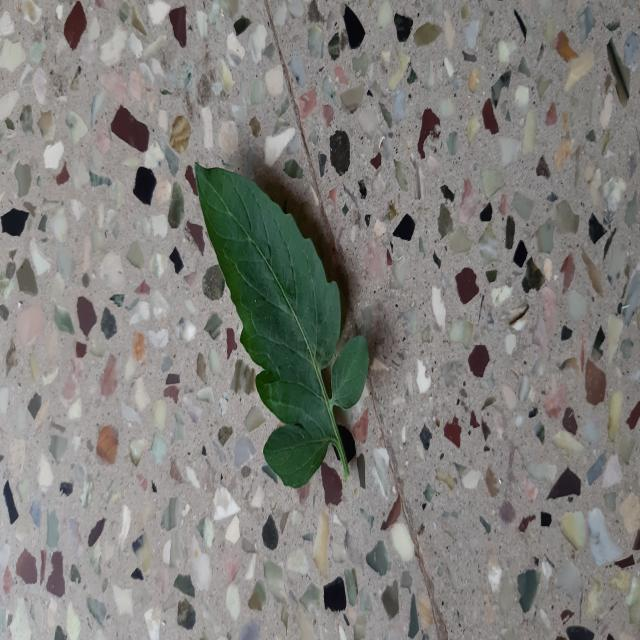tomato: (195, 162, 369, 487)
